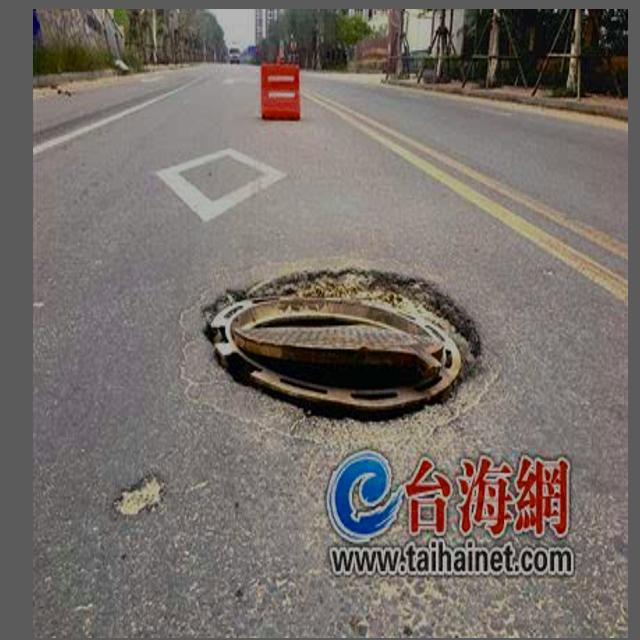circle: (141, 250, 523, 457)
